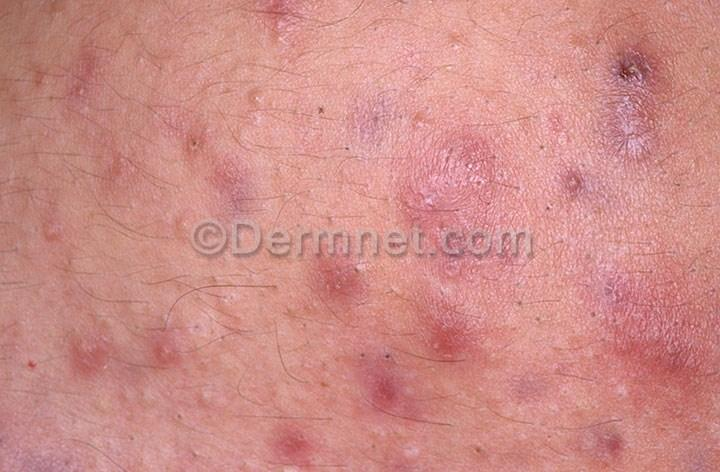Acne: (586, 25, 676, 186), (359, 351, 429, 432), (427, 293, 494, 369), (45, 326, 128, 387), (249, 417, 329, 456), (317, 262, 377, 308), (135, 321, 192, 367)
